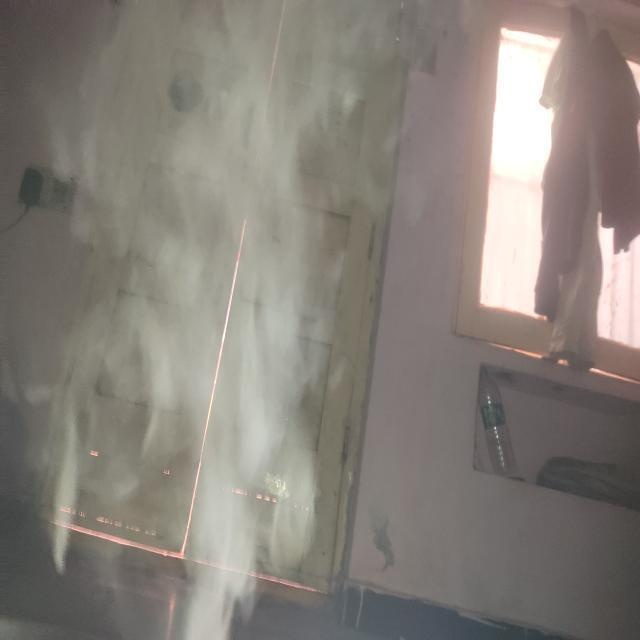smoke: (52, 157, 300, 604)
